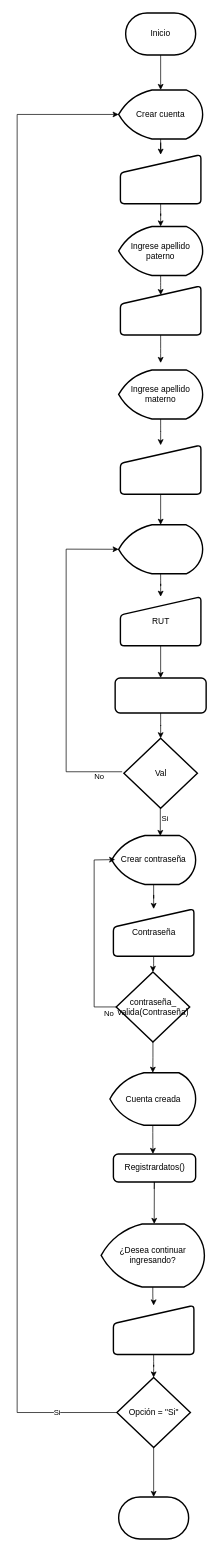
This 219x1551 diagram has some shape labels left out. The shapes that lost their labels are listed below. From the top down, each one's centre as x and y in pixels, then its label:
At [160,179]: "Nombre".
At [160,310]: "Apellido paterno".
At [160,469]: "Apellido materno".
At [160,549]: "Ingrese RUT".
At [160,695]: "Val=existe_RUT(RUT)".
At [153,1329]: "Opción".
At [153,1517]: "Fin".
